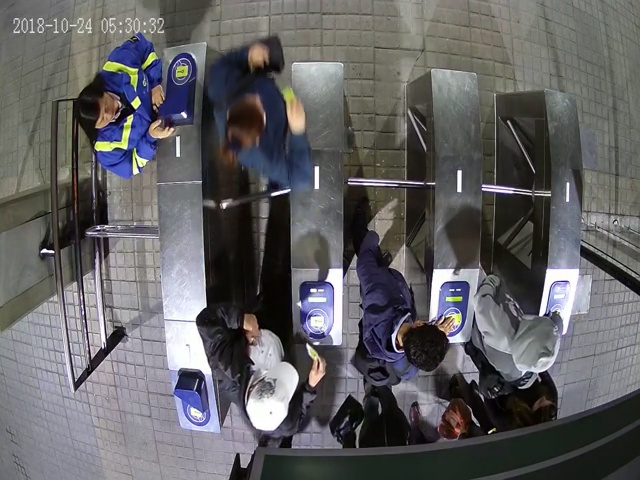Chaleco_azul: (75, 32, 175, 178)
